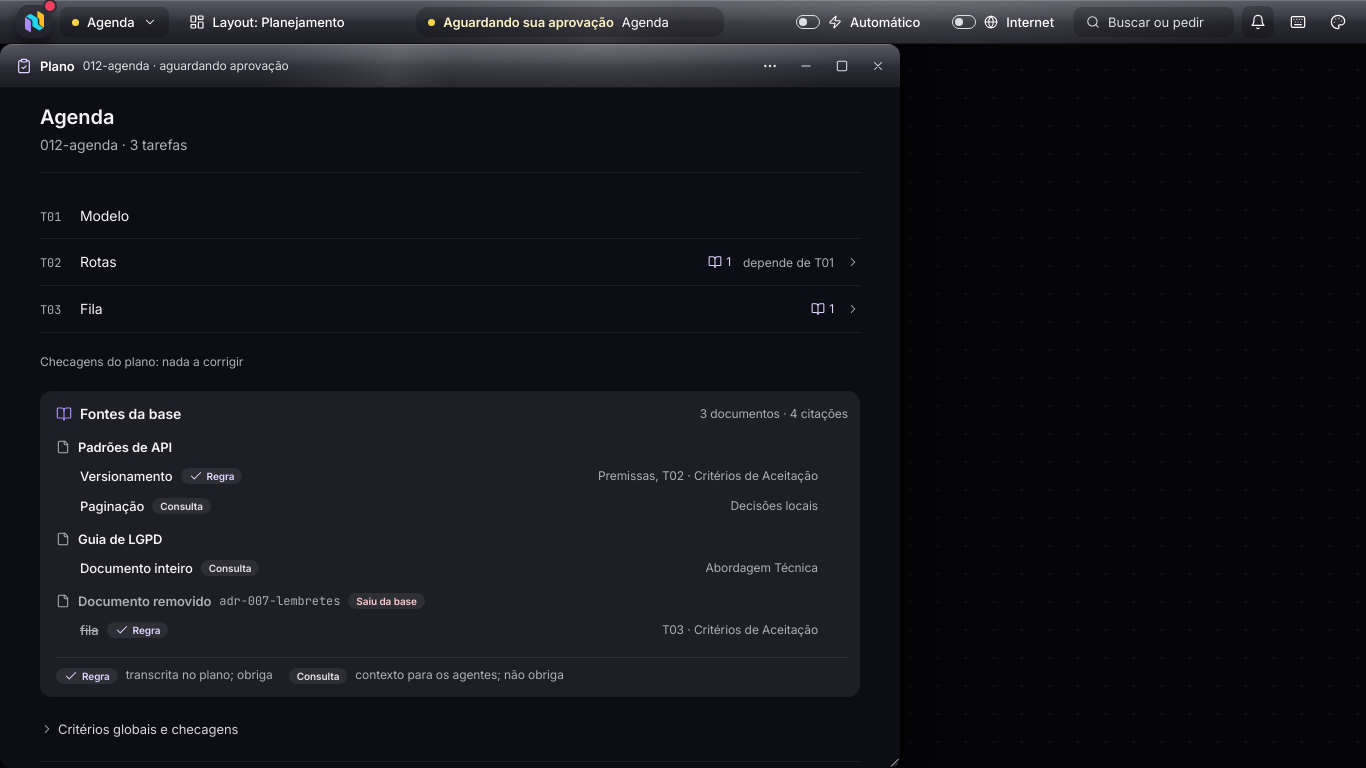
it: Fontes da base: o quadro › o toque abre o Conhecimento na seção, que se destaca por um instante
The image size is (1366, 768).
Step 1. Click the button "Versionamento Regra Premissas, T02 · Critérios de Aceitação" → (126, 476), box [56,461,848,491]
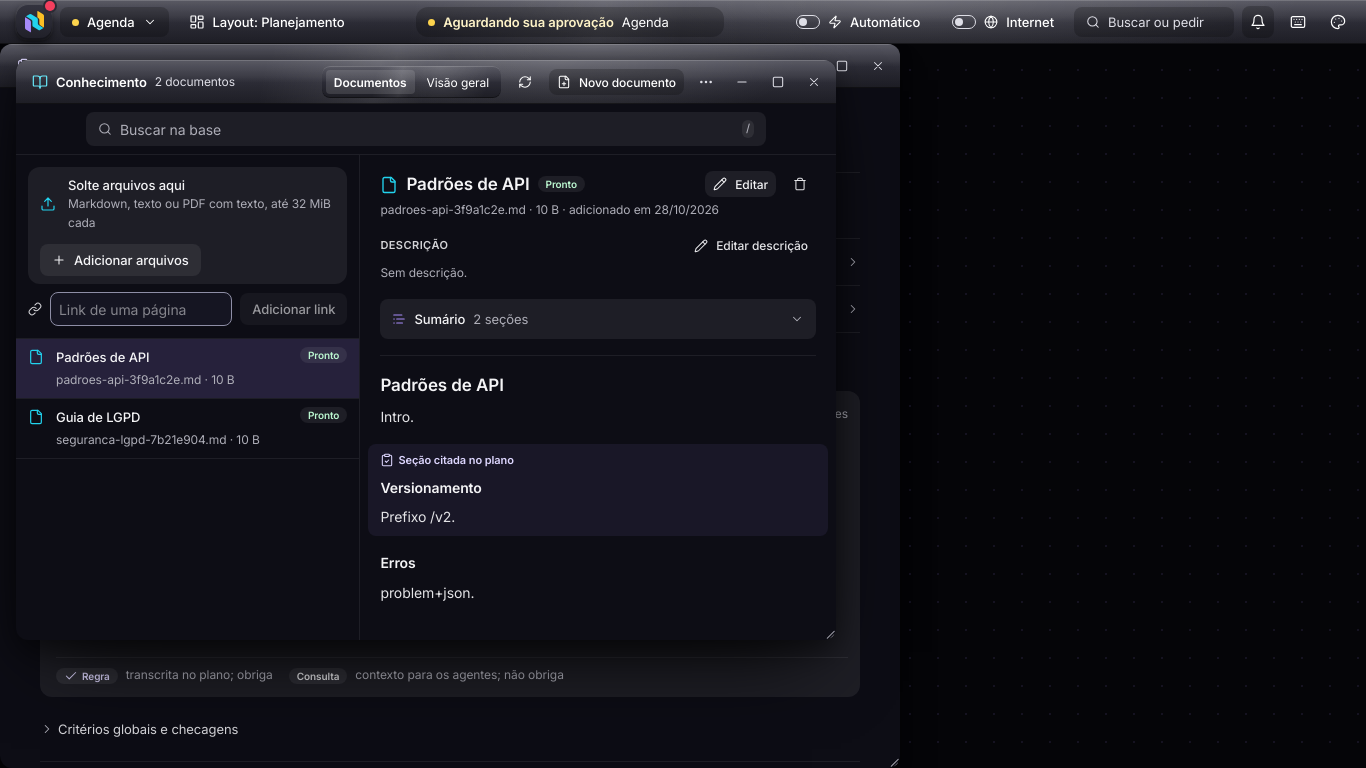
Check: the element showing "Seção citada no plano Versionamento Prefixo /v2." is shown, box [368,444,828,536]
